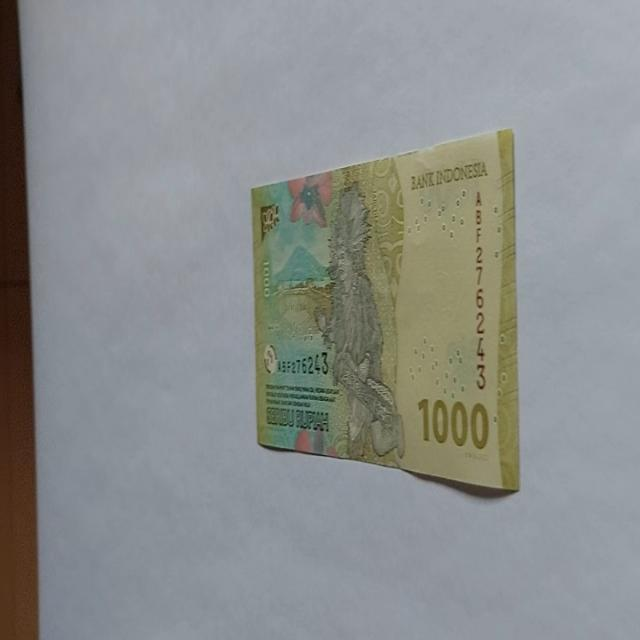seribu rupiah kertas: (250, 126, 520, 495)
